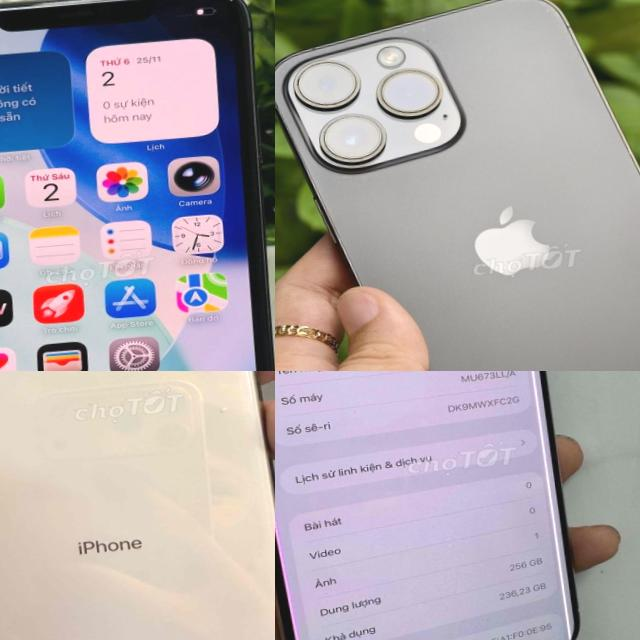gen_11: (0, 0, 275, 371)
gen_14: (275, 0, 640, 371)
gen_15: (275, 371, 630, 640)
gen_x_xs: (0, 371, 275, 640)
